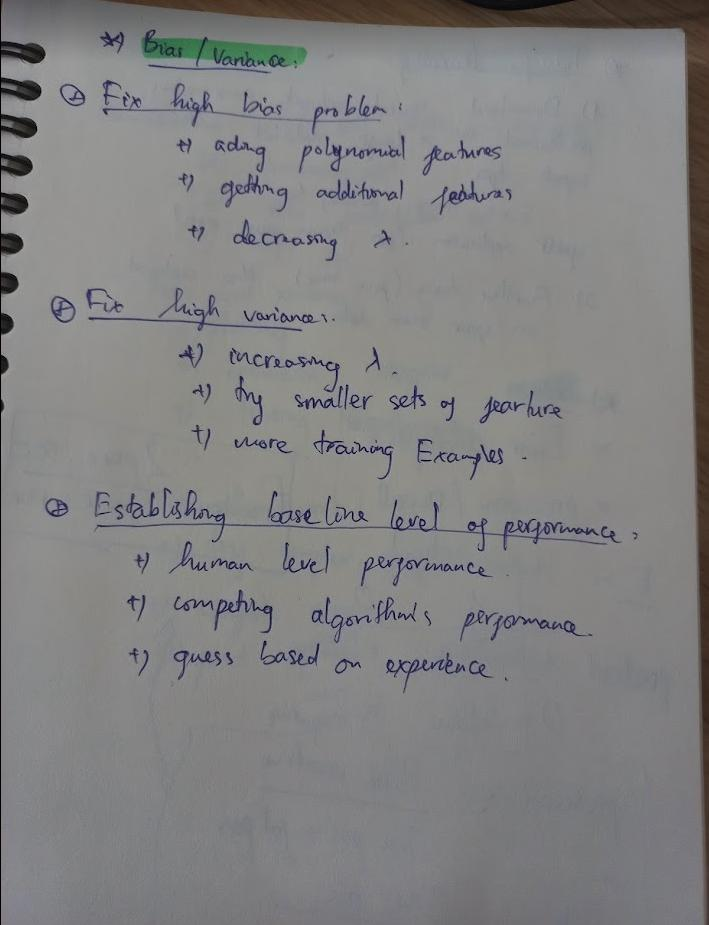text: (38, 484, 625, 556), (125, 585, 595, 647), (55, 73, 405, 138), (125, 637, 497, 698), (190, 372, 565, 429), (187, 422, 508, 484), (133, 538, 496, 589), (174, 170, 515, 215), (173, 132, 504, 176), (49, 285, 336, 333), (176, 337, 384, 395), (185, 215, 395, 265), (96, 25, 301, 76)
